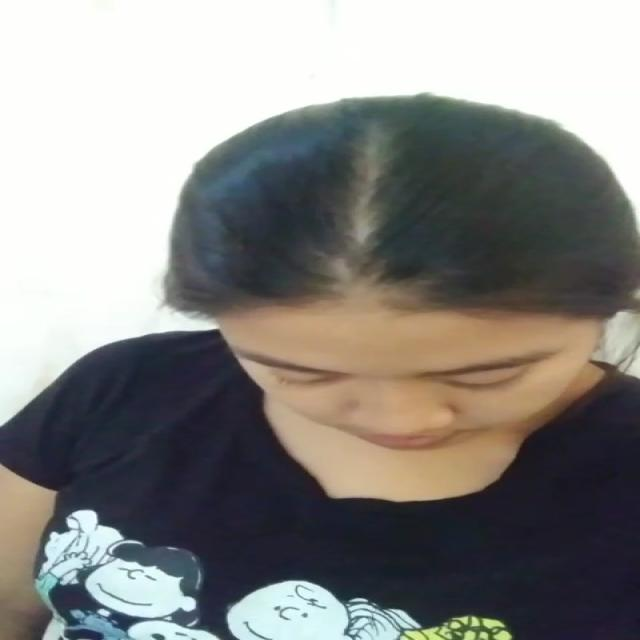9_cabeza_baja: (160, 94, 640, 453)
